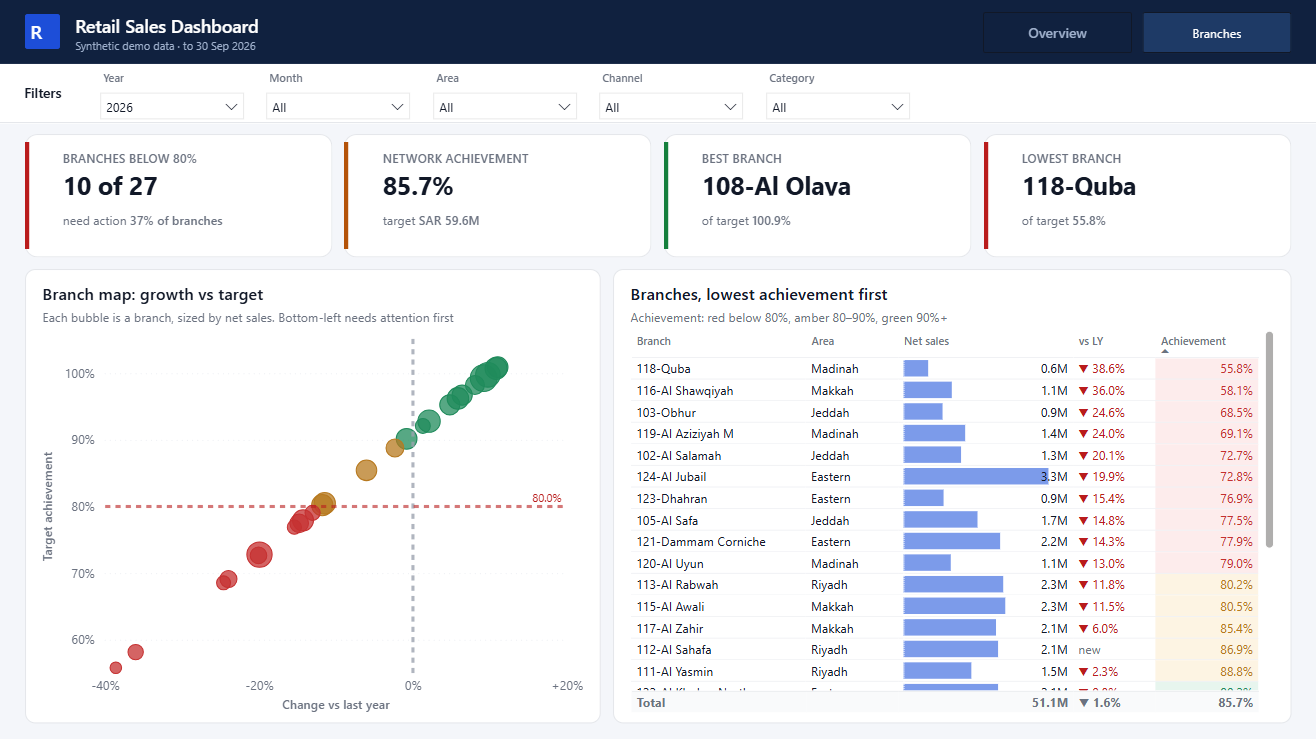

Layout of this report page (visuals, bound fields, positions):
{"tool":"powerbi","page":{"name":"Branches","canvas":[1280,720],"ordinal":1},"visuals":[{"type":"shape","box":[0,0,1280,62],"z":0},{"type":"shape","box":[24,14,34,34],"z":1},{"type":"textbox","box":[24,13,34,36],"z":2},{"type":"textbox","box":[68,8,420,50],"z":3},{"type":"pageNavigator","box":[956,12,300,40],"z":4},{"type":"shape","box":[0,62,1280,58],"z":5},{"type":"shape","box":[0,119,1280,1],"z":6},{"type":"textbox","box":[18,76,70,30],"z":7},{"type":"slicer","fields":{"Values":["Date.Year"]},"box":[92,68,150,48],"z":10},{"type":"slicer","fields":{"Values":["Date.Month"]},"box":[254,68,150,48],"z":11},{"type":"slicer","fields":{"Values":["Branch.area"]},"box":[416,68,150,48],"z":12},{"type":"slicer","fields":{"Values":["Branch.channel"]},"box":[578,68,150,48],"z":13},{"type":"slicer","fields":{"Values":["Product.category"]},"box":[740,68,150,48],"z":14},{"type":"shape","box":[24,130,299,120],"z":100},{"type":"cardVisual","fields":{"Data":["_Measures.Below 80 Label"]},"box":[32,132,287,116],"z":101},{"type":"shape","box":[24,138,4,104],"z":102},{"type":"shape","box":[335,130,299,120],"z":103},{"type":"cardVisual","fields":{"Data":["_Measures.Target Achievement %"]},"box":[343,132,287,116],"z":104},{"type":"shape","box":[335,138,4,104],"z":105},{"type":"shape","box":[646,130,299,120],"z":106},{"type":"cardVisual","fields":{"Data":["_Measures.Best Branch"]},"box":[654,132,287,116],"z":107},{"type":"shape","box":[646,138,4,104],"z":108},{"type":"shape","box":[957,130,299,120],"z":109},{"type":"cardVisual","fields":{"Data":["_Measures.Lowest Branch"]},"box":[965,132,287,116],"z":110},{"type":"shape","box":[957,138,4,104],"z":111},{"type":"scatterChart","title":"Branch map: growth vs target","fields":{"Category":["Branch.branch_name"],"Size":["_Measures.Net Sales"],"X":["_Measures.LFL vs LY %"],"Y":["_Measures.Target Achievement %"]},"box":[24,262,560,442],"z":300},{"type":"tableEx","title":"Branches, lowest achievement first","fields":{"Values":["Branch.branch_name","Branch.area","_Measures.Net Sales","_Measures.vs LY Label","_Measures.Target Achievement %"]},"box":[596,262,660,442],"z":301}]}

Visuals, with their boxes in screenshot pixels (x1, y1, x2, y2), scaled from the page's 1280x720 canvas onto the 1316x739 screenshot:
shape: locate(0, 0, 1315, 64)
shape: locate(25, 14, 60, 49)
textbox: locate(25, 13, 60, 50)
textbox: locate(70, 8, 502, 60)
pageNavigator: locate(983, 12, 1291, 53)
shape: locate(0, 64, 1315, 123)
shape: locate(0, 122, 1315, 123)
textbox: locate(19, 78, 90, 109)
slicer - Date.Year: locate(95, 70, 249, 119)
slicer - Date.Month: locate(261, 70, 415, 119)
slicer - Branch.area: locate(428, 70, 582, 119)
slicer - Branch.channel: locate(594, 70, 748, 119)
slicer - Product.category: locate(761, 70, 915, 119)
shape: locate(25, 133, 332, 257)
cardVisual - _Measures.Below 80 Label: locate(33, 135, 328, 255)
shape: locate(25, 142, 29, 248)
shape: locate(344, 133, 652, 257)
cardVisual - _Measures.Target Achievement %: locate(353, 135, 648, 255)
shape: locate(344, 142, 349, 248)
shape: locate(664, 133, 972, 257)
cardVisual - _Measures.Best Branch: locate(672, 135, 967, 255)
shape: locate(664, 142, 668, 248)
shape: locate(984, 133, 1291, 257)
cardVisual - _Measures.Lowest Branch: locate(992, 135, 1287, 255)
shape: locate(984, 142, 988, 248)
"Branch map: growth vs target" scatterChart: locate(25, 269, 600, 723)
"Branches, lowest achievement first" tableEx: locate(613, 269, 1291, 723)
